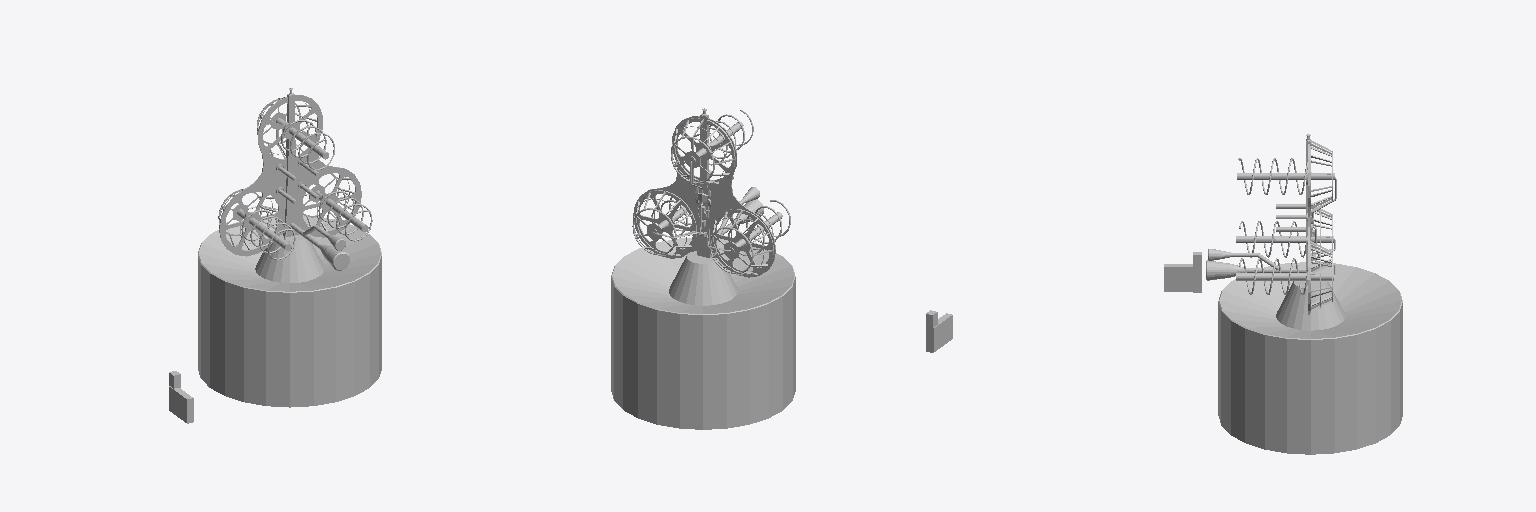
File: Marisat_Antenna.obj
3 renders of one model, left to right at view 1: azimuth 30°, elevation 25°; view 2: azimuth 150°, elevation 25°; view 3: azimuth 270°, elevation 25°, orthographic.
Parts seen in each view (by area): view 1: Body_Cylinder.002, antennathingy.001, AntennaStaff_Cube.002, Cutter.001, HornBottom_Cylinder, SpringFace_Circle.004, SpringFace.002_Circle.007, SpringFace.001_Circle.005; view 2: Body_Cylinder.002, antennathingy.001, AntennaStaff_Cube.002, Cutter.001; view 3: Body_Cylinder.002, Cutter.001, HornBottom_Cylinder, AntennaStemRight_Cylinder.015, AntennaStemCenter_Cylinder.016.
Part boxes in pixels (left/top/right/bottom): Body_Cylinder.002: left=198, top=215, right=381, bottom=407; antennathingy.001: left=219, top=95, right=361, bottom=256; AntennaStaff_Cube.002: left=283, top=93, right=299, bottom=236; Cutter.001: left=169, top=386, right=193, bottom=423; HornBottom_Cylinder: left=290, top=223, right=349, bottom=270; SpringFace_Circle.004: left=281, top=113, right=334, bottom=169; SpringFace.002_Circle.007: left=318, top=186, right=372, bottom=241; SpringFace.001_Circle.005: left=241, top=205, right=295, bottom=259; Body_Cylinder.002: left=611, top=238, right=795, bottom=429; antennathingy.001: left=633, top=116, right=775, bottom=277; AntennaStaff_Cube.002: left=696, top=113, right=713, bottom=257; Cutter.001: left=933, top=313, right=952, bottom=351; Body_Cylinder.002: left=1218, top=262, right=1402, bottom=454; Cutter.001: left=1164, top=264, right=1192, bottom=291; HornBottom_Cylinder: left=1206, top=260, right=1305, bottom=280; AntennaStemRight_Cylinder.015: left=1236, top=273, right=1333, bottom=280; AntennaStemCenter_Cylinder.016: left=1237, top=173, right=1334, bottom=179.
Bounding box in the file's own units: 3.36 × 3.63 × 2.77.